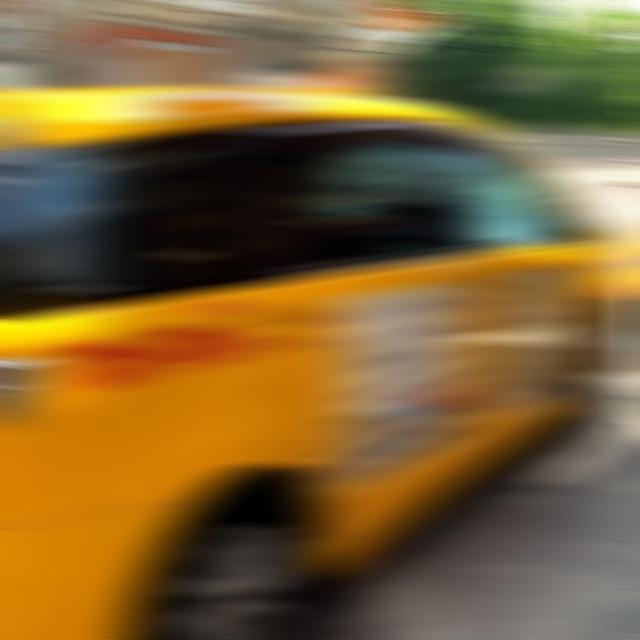Taxi: (0, 53, 640, 640)
